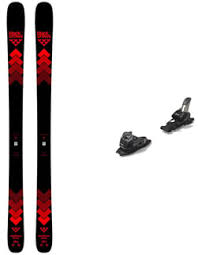skis: (6, 1, 54, 255)
